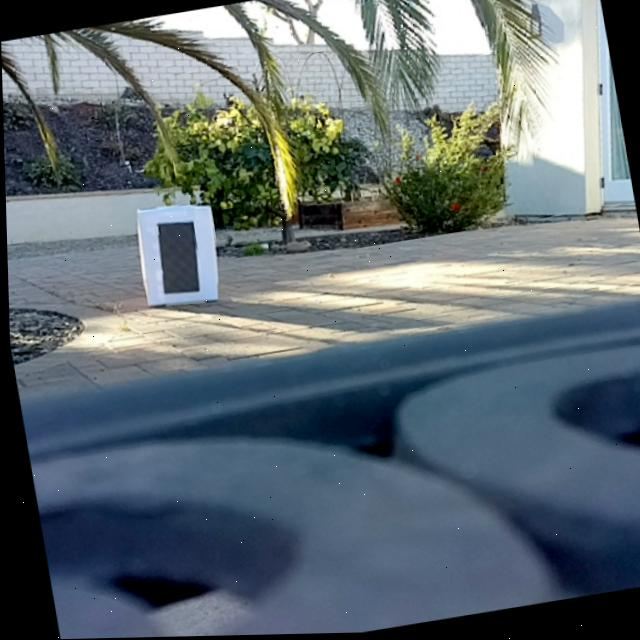led: (152, 220, 204, 297)
